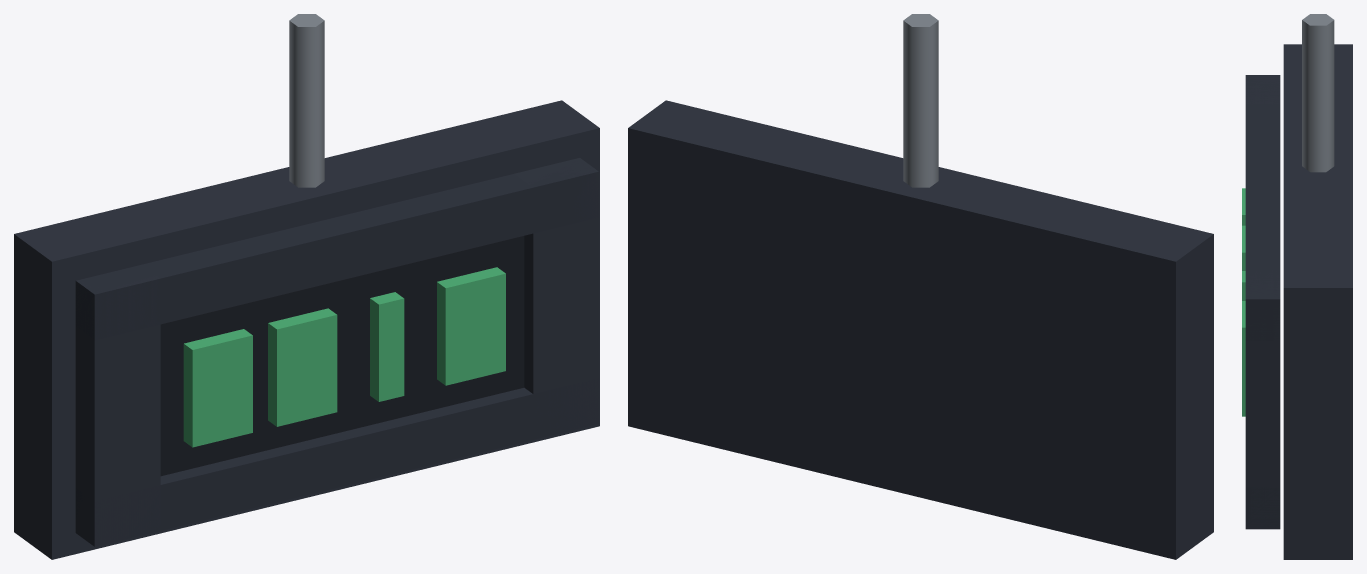
Rendered from exit-sign.glb.
3 views of the same model, side by side, from view 1: azimuth 30°, elevation 25°; view 2: azimuth 150°, elevation 25°; view 3: azimuth 270°, elevation 25° (orthographic). The views are drawn at different scales.
Visible parts, largest first — view 1: exit_sign; view 2: exit_sign; view 3: exit_sign.
Part boxes in pixels (box(x1,y1,x2,y2)): exit_sign: box(14, 14, 599, 559); exit_sign: box(628, 14, 1213, 559); exit_sign: box(1242, 14, 1352, 559).
Bounding box in the file's own units: 0.5 × 0.4 × 0.096.
